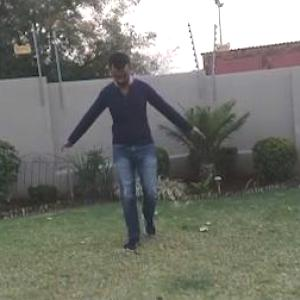land: (51, 45, 200, 268)
